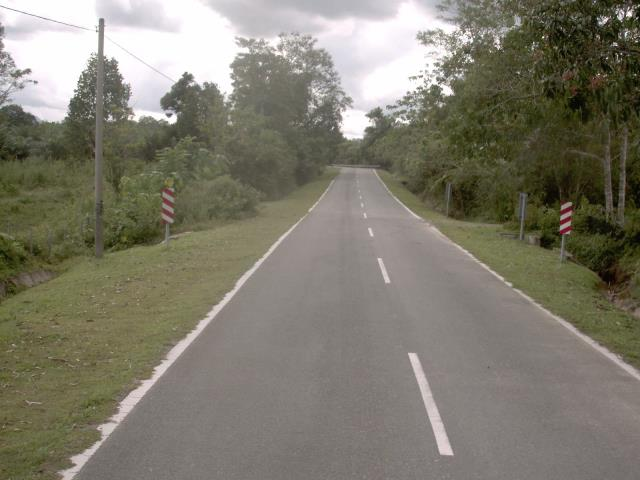traffic_sign: (553, 197, 577, 241), (158, 180, 177, 229)
